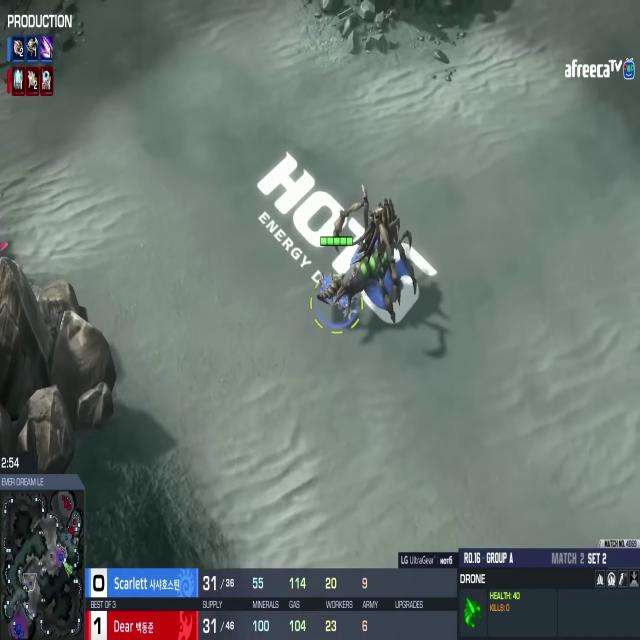drone: (315, 266, 356, 321)
queen: (330, 180, 424, 330)
